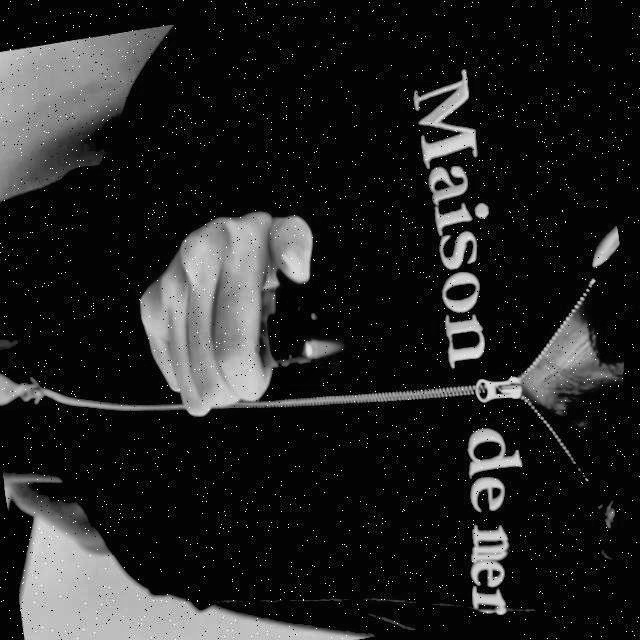Fire: (302, 327, 355, 367)
